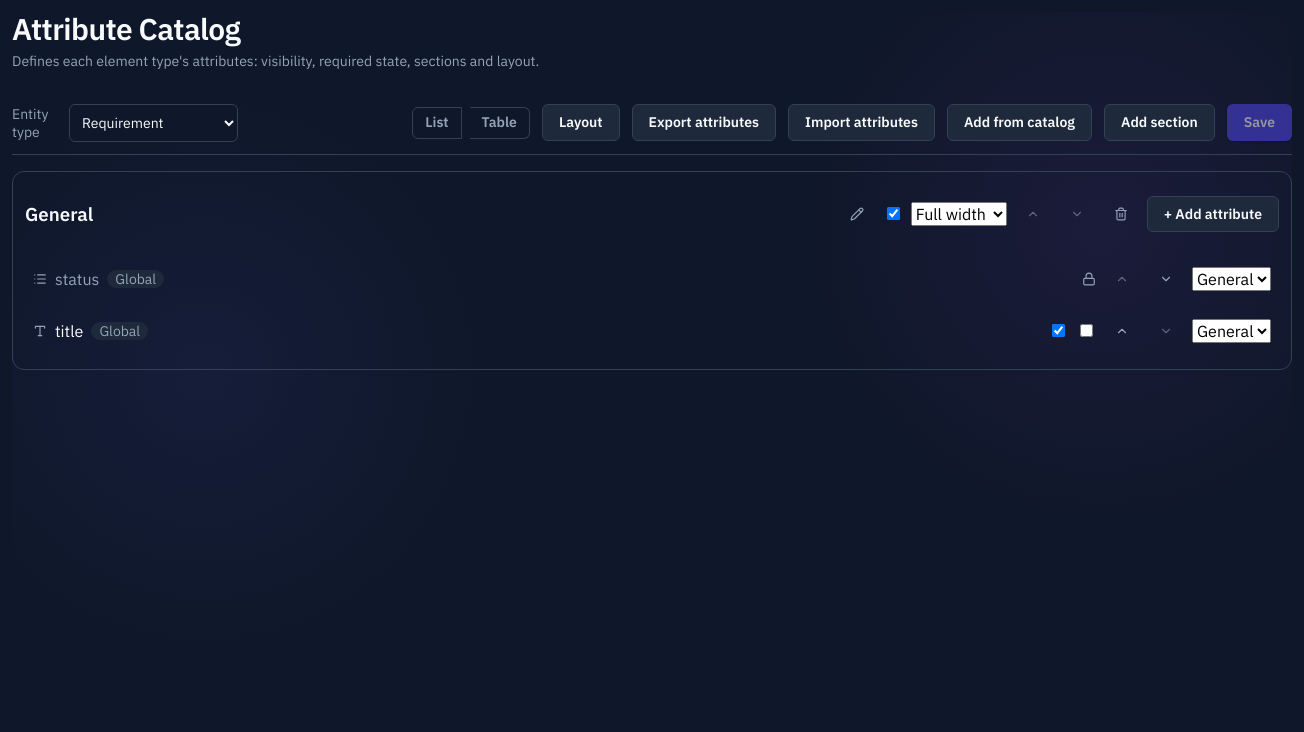
Test case: AttributeEditorPage › surfaces a backend rejection instead of silently discarding the edit
This screenshot has width=1304, height=732.
Click the button with test id "attribute-row-title". click: (120, 331)
box: [25,305,1279,357]
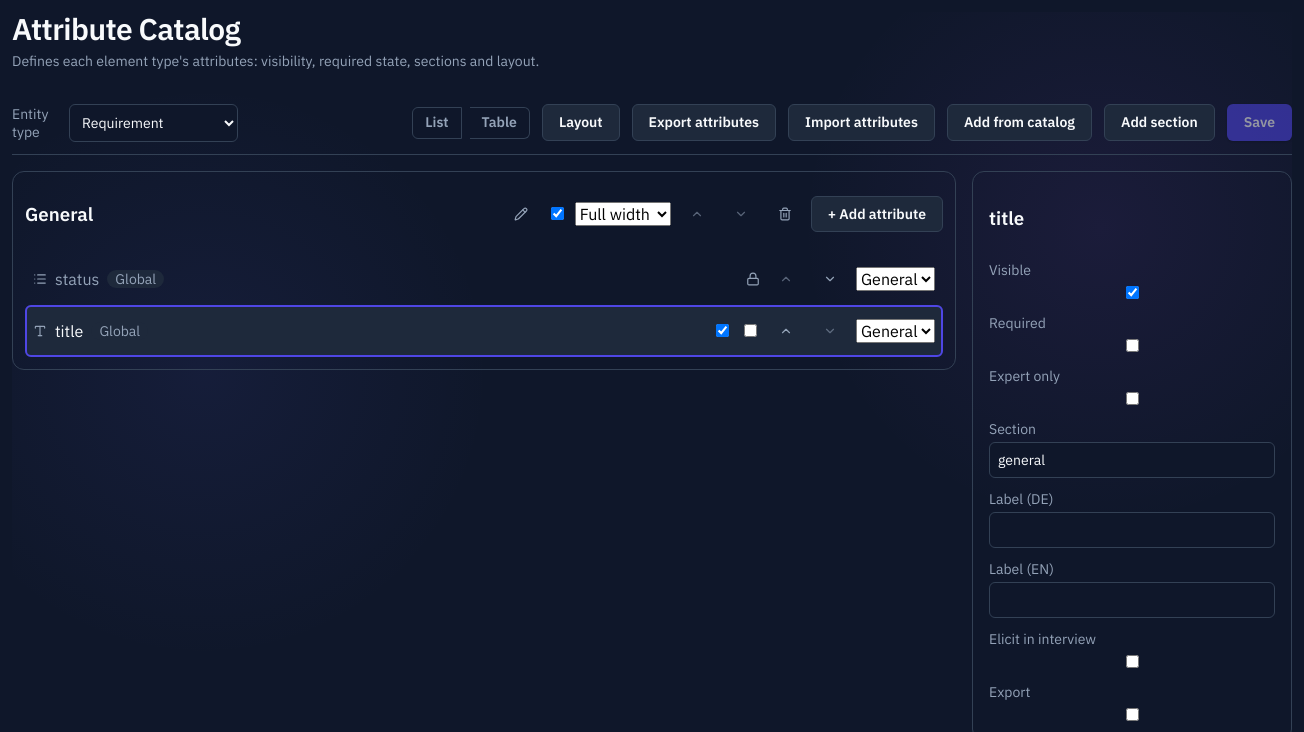
Click the checkbox with test id "attribute-inspector-audience". click: (1132, 398)
box: [993,392,1272,405]
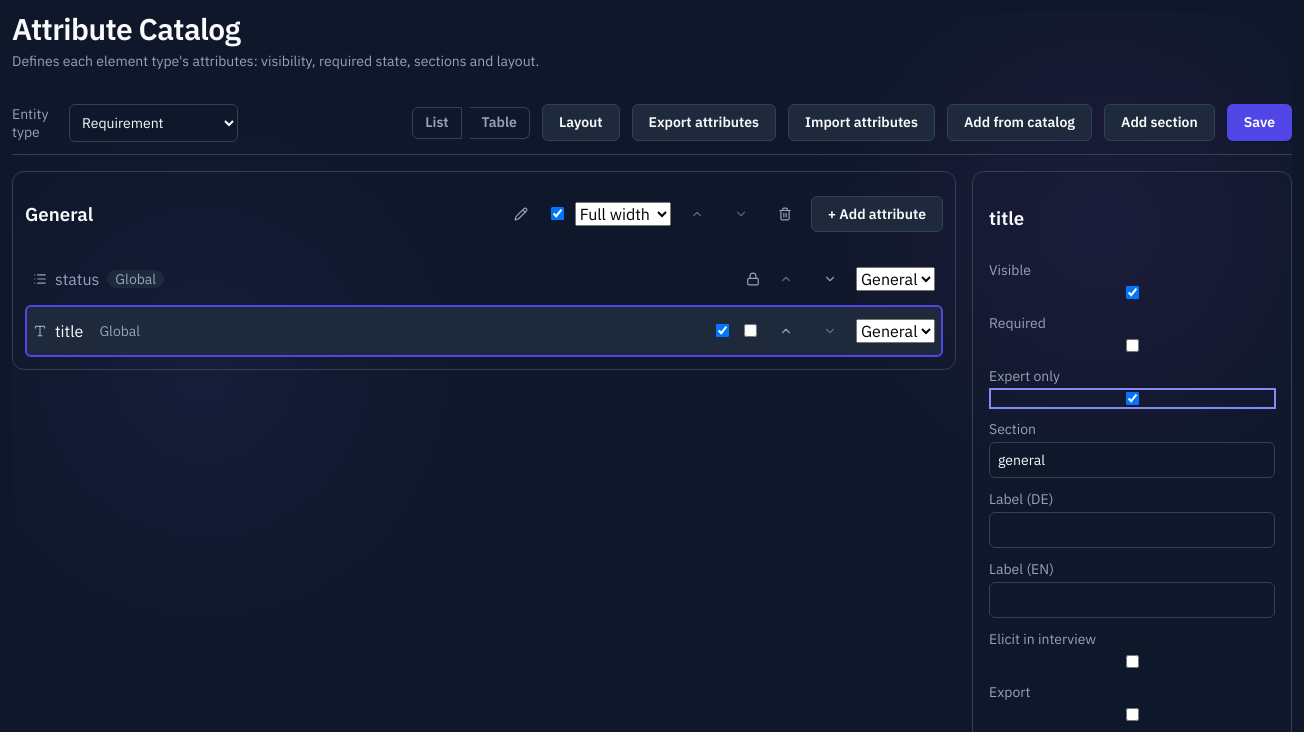
Click the button with test id "attribute-editor-save". click: (1259, 122)
box: [1227,104,1292,141]
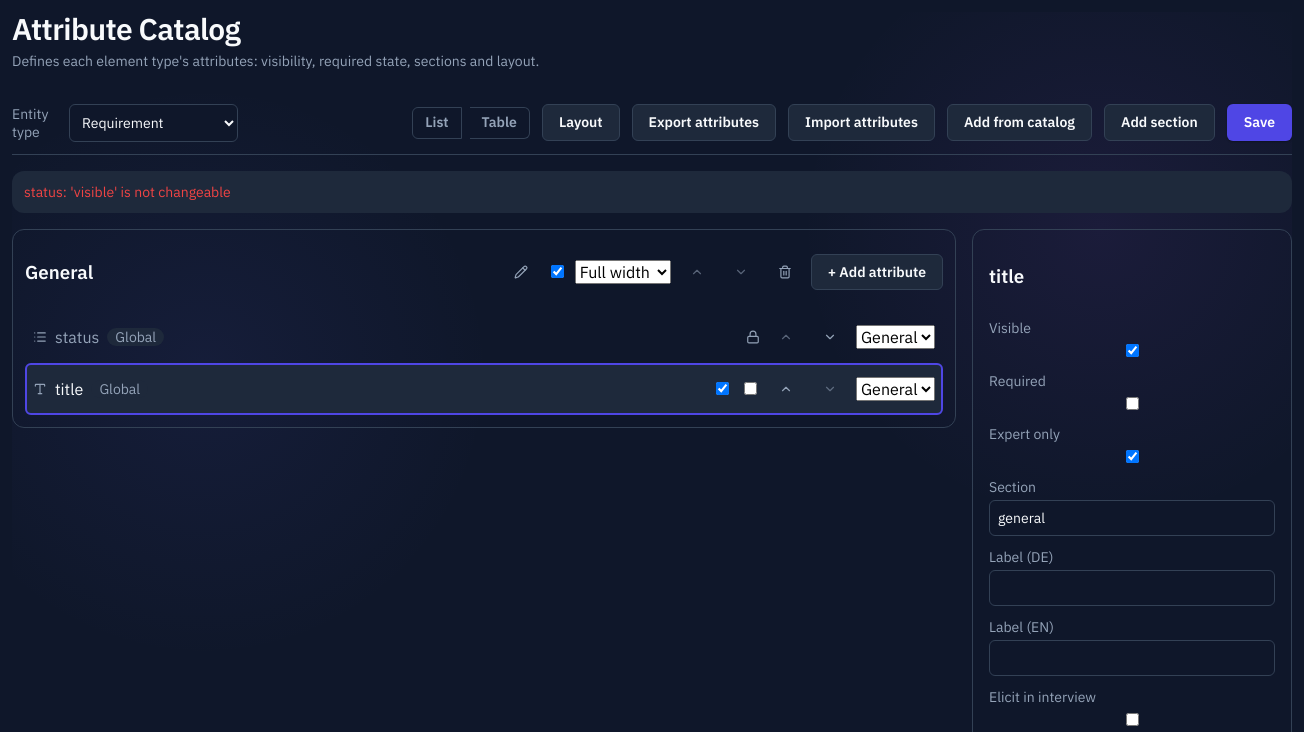
Now the message with test id "attribute-editor-error" shows "not changeable", box [24,182,231,200]
